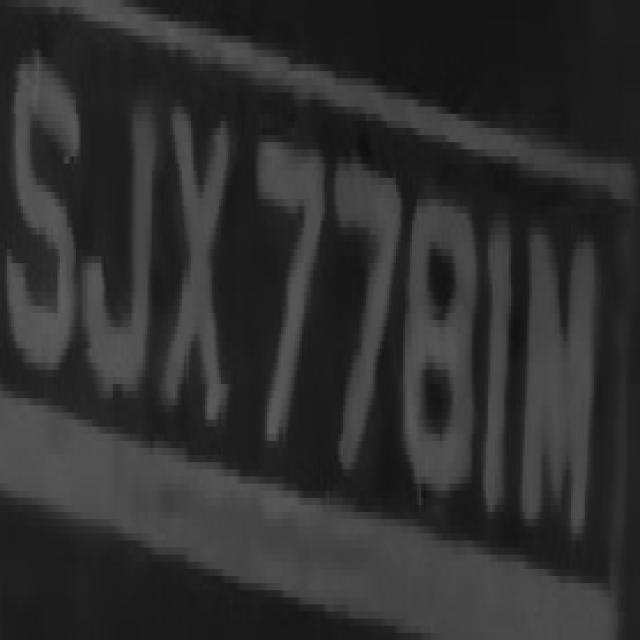1: (479, 185, 513, 540)
7: (327, 121, 403, 519), (254, 78, 322, 484)
8: (401, 171, 474, 526)
J: (76, 42, 159, 420)
M: (520, 192, 596, 555)
S: (5, 21, 76, 370)
X: (154, 86, 235, 470)
